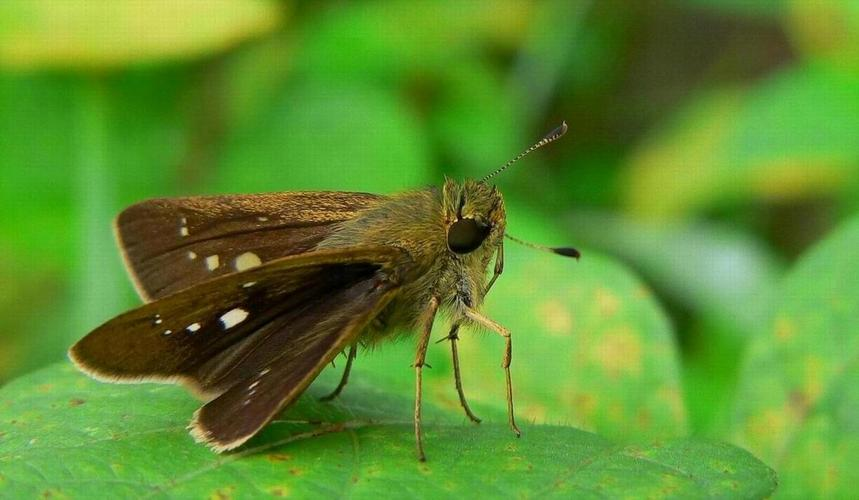Hesperiidae: (62, 113, 587, 464)
